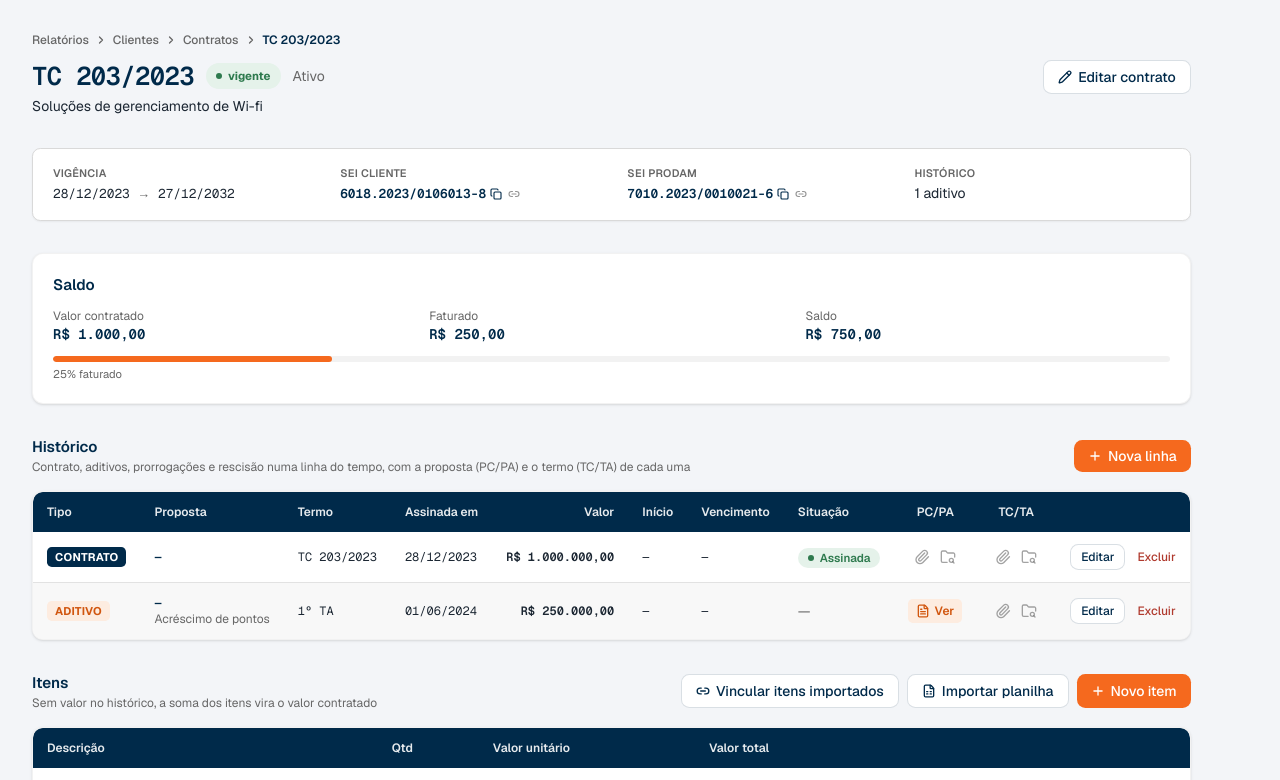
it: ContratoDetalhePage › exclui uma linha do histórico com confirmação inline
Click the button "Excluir" in the row of "Acréscimo de pontos": point(1157, 611) [1137,603,1176,619]
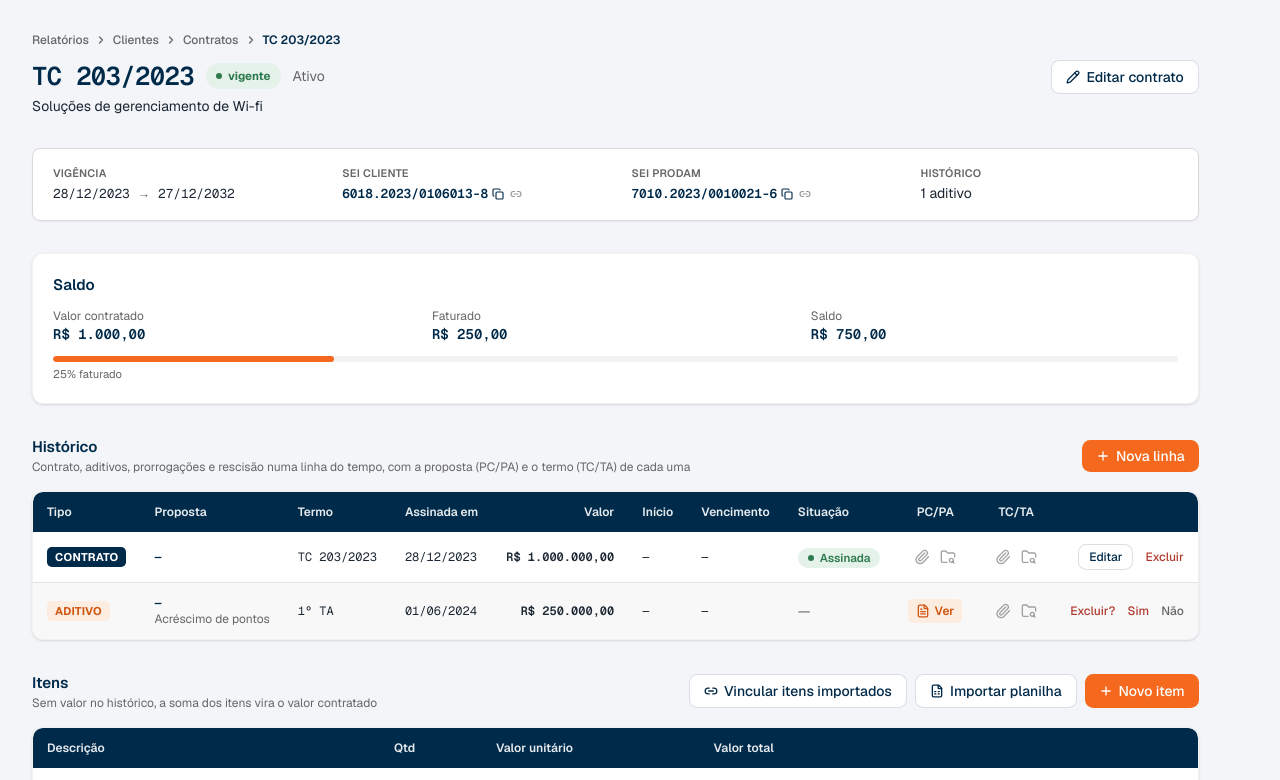
Click the button "Sim": point(1138, 611) [1127,603,1149,619]
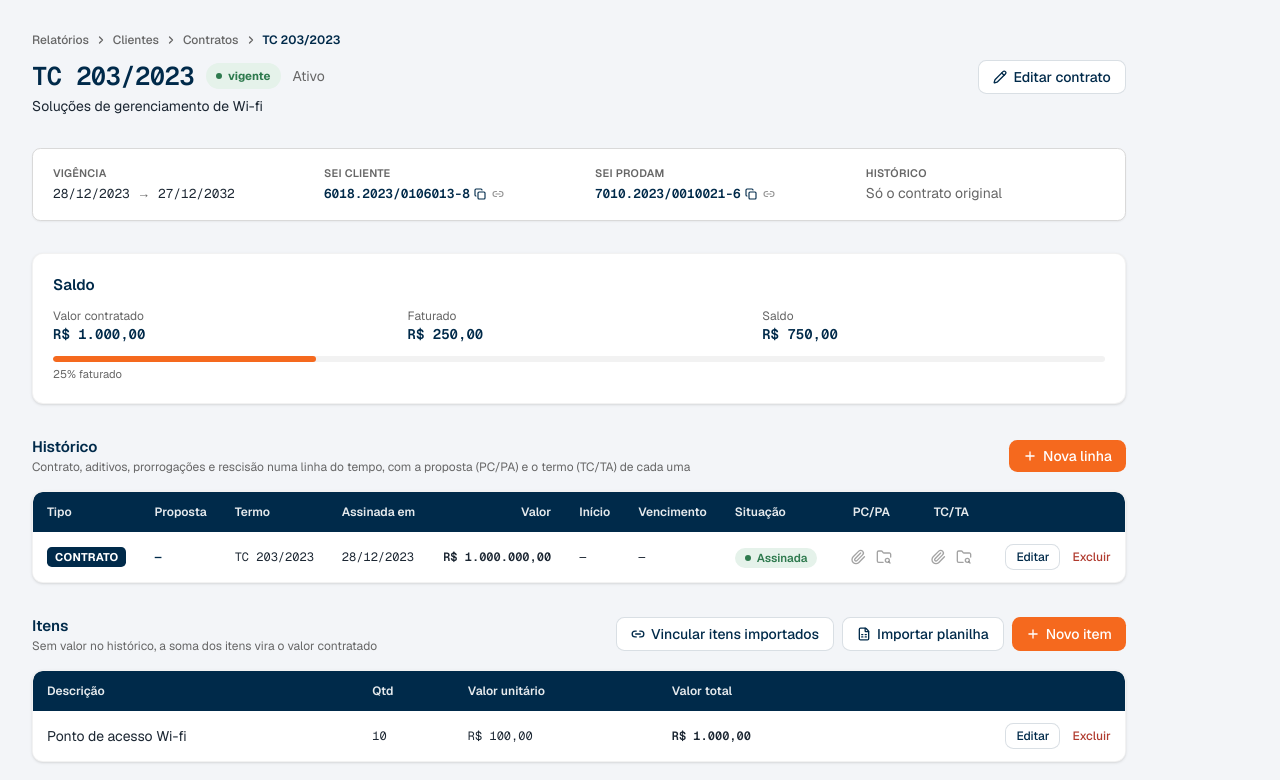
Now the text "1º TA" is gone
